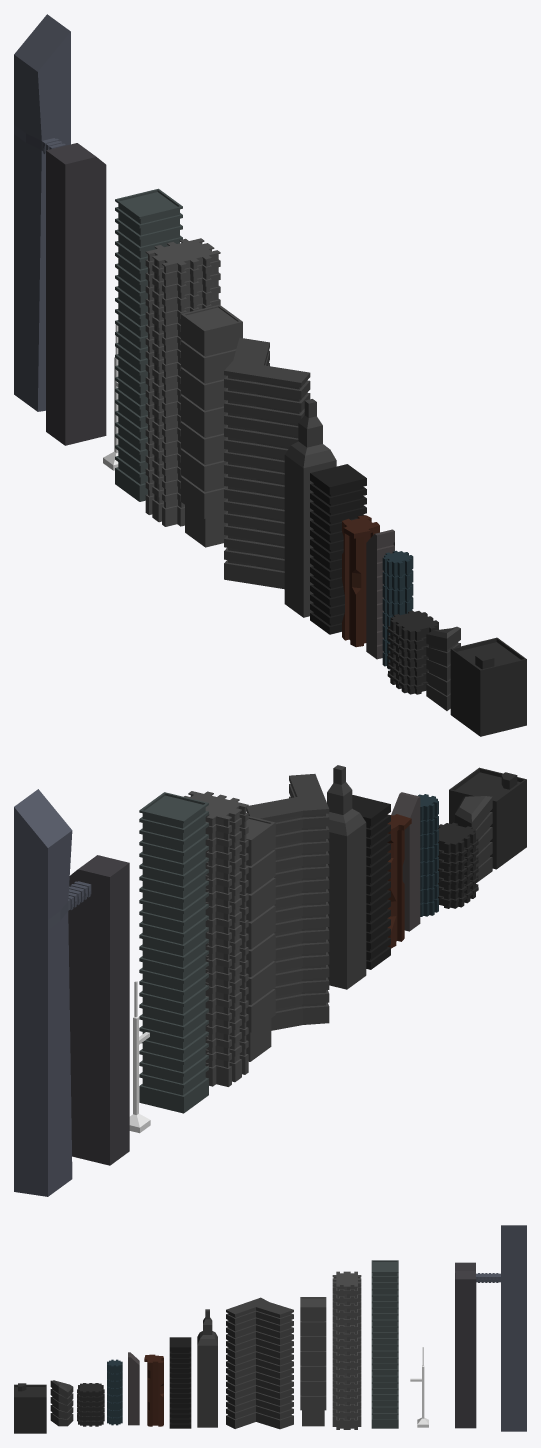
Rendered from 3d buildings nicK.fbx.
3 views of the same model, one above another, from view 1: azimuth 30°, elevation 25°; view 2: azimuth 150°, elevation 25°; view 3: azimuth 270°, elevation 25° (orthographic). The views are drawn at different scales.
Visible parts, largest first — view 1: Cube.014, Cube.008, Cube.013, Cube.009, Cube.007, Cube.010, Cube.011, Cube.005, Cube.004, Cube.001, Cube.003, Cube.002 (+2 smaller); view 2: Cube.013, Cube.007, Cube.014, Cube.008, Cube.009, Cube.004, Cube.010, Cube.005, Cube.011, Cube.003, Cube.002, Cube (+3 smaller); view 3: Cube.008, Cube.013, Cube.007, Cube.009, Cube.014, Cube.010, Cube.004, Cube.005, Cube.011, Cube.001, Cube.003, Cube (+3 smaller).
Boxes of the visible parts, x1,y1,x2,y2 form: Cube.014: [46, 143, 106, 445]; Cube.008: [224, 337, 310, 589]; Cube.013: [14, 14, 70, 411]; Cube.009: [145, 238, 220, 526]; Cube.007: [115, 188, 182, 501]; Cube.010: [181, 304, 242, 547]; Cube.011: [450, 637, 526, 736]; Cube.005: [310, 464, 366, 634]; Cube.004: [284, 399, 336, 617]; Cube.001: [342, 515, 379, 647]; Cube.003: [387, 610, 438, 694]; Cube.002: [366, 529, 394, 659]; Cube.013: [14, 789, 91, 1196]; Cube.007: [139, 792, 208, 1113]; Cube.014: [68, 855, 129, 1165]; Cube.008: [246, 774, 329, 1030]; Cube.009: [184, 791, 248, 1086]; Cube.004: [327, 765, 366, 989]; Cube.010: [246, 816, 275, 1061]; Cube.005: [352, 795, 390, 969]; Cube.011: [449, 767, 526, 869]; Cube.003: [438, 822, 478, 908]; Cube.002: [391, 792, 420, 931]; Cube: [418, 794, 438, 916]; Cube.008: [226, 1297, 293, 1429]; Cube.013: [476, 1225, 526, 1431]; Cube.007: [371, 1260, 398, 1428]; Cube.009: [332, 1271, 361, 1429]; Cube.014: [455, 1262, 476, 1428]; Cube.010: [300, 1297, 326, 1426]; Cube.004: [197, 1309, 217, 1427]; Cube.005: [169, 1337, 191, 1428]; Cube.011: [14, 1383, 46, 1433]; Cube.001: [144, 1354, 163, 1426]; Cube.003: [77, 1383, 104, 1426]; Cube: [107, 1359, 122, 1425].
Bounding box in the file's own units: 870 × 3986 × 8979.
